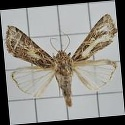Spodoptera litura: (6, 17, 120, 108)
